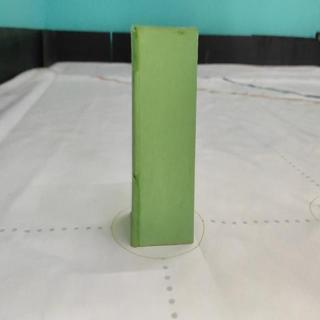greenbox: (129, 23, 200, 248)
